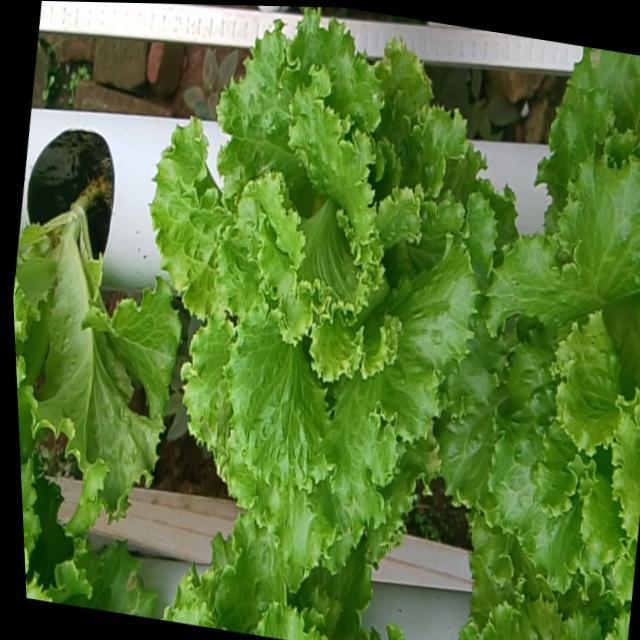Mature: (151, 16, 498, 573), (441, 146, 640, 591)
